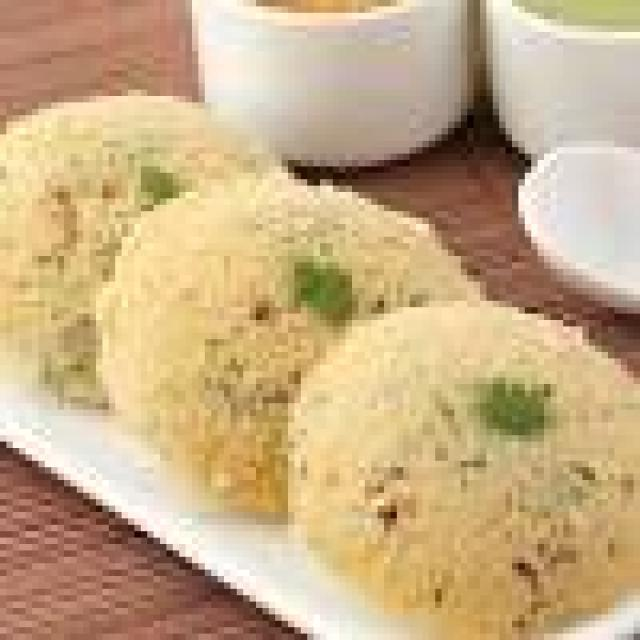idli: (109, 166, 467, 512), (275, 288, 634, 621), (0, 83, 307, 416)
